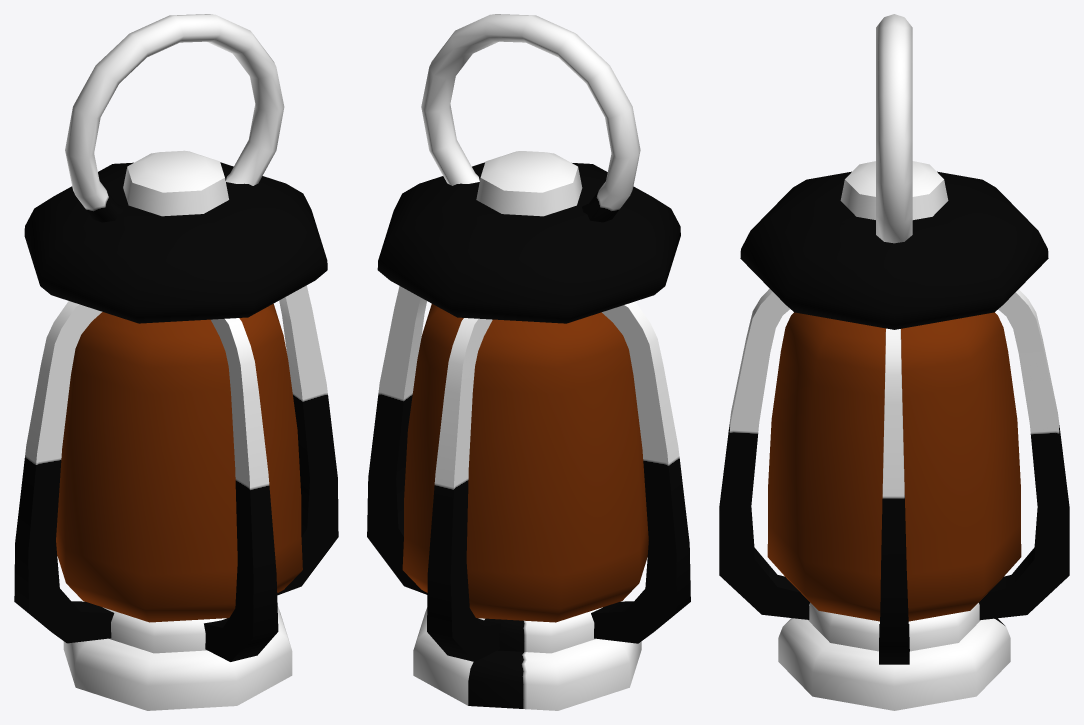
Rendered from Lantern.fbx.
The picture shows the model from 3 angles, left to right: view 1: azimuth 30°, elevation 25°; view 2: azimuth 150°, elevation 25°; view 3: azimuth 270°, elevation 25°; orthographic projection.
Visible parts, largest first — view 1: Lantern; view 2: Lantern; view 3: Lantern.
Boxes of the visible parts, x1,y1,x2,y2 form: Lantern: (14, 14, 338, 710); Lantern: (367, 14, 690, 710); Lantern: (719, 14, 1069, 710).
Size of the model in its own units: 84.14 by 168 by 84.14.
Materials: 2 (1 with a texture image).
